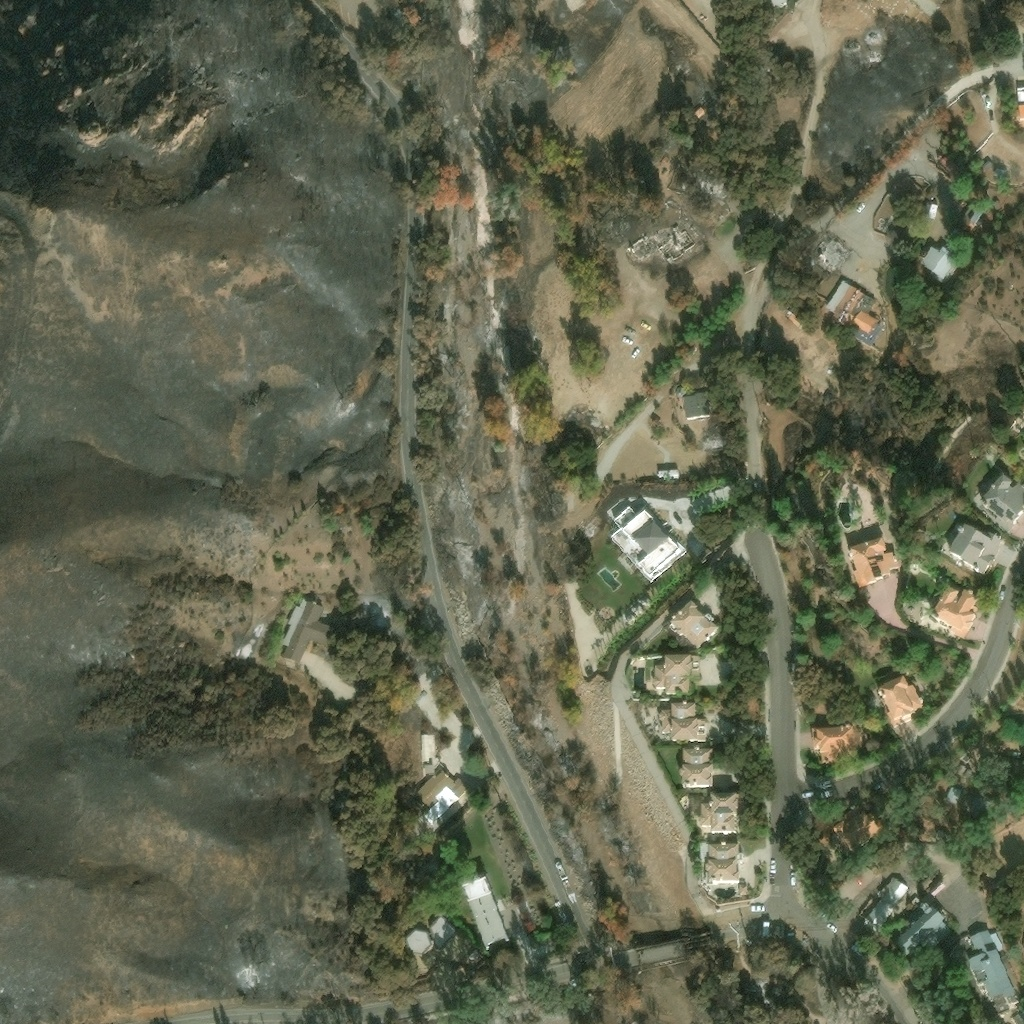0 no-damage: (612, 506, 685, 581), (960, 928, 1019, 1006), (825, 278, 883, 348), (895, 905, 956, 967), (281, 598, 335, 664), (461, 875, 509, 949), (947, 521, 1006, 577), (414, 770, 469, 829), (848, 535, 900, 588), (931, 585, 980, 641), (670, 598, 719, 650), (877, 674, 924, 728), (866, 875, 911, 930), (832, 810, 881, 855), (981, 472, 1023, 524), (659, 702, 709, 743), (812, 723, 857, 764), (655, 655, 701, 692), (701, 791, 738, 832), (678, 748, 714, 786), (708, 844, 740, 882), (817, 236, 851, 271), (922, 245, 956, 280), (430, 916, 458, 950), (684, 391, 714, 419), (893, 176, 924, 203), (407, 930, 432, 956), (971, 796, 991, 814), (656, 469, 680, 481), (946, 787, 961, 805), (930, 881, 946, 897), (1017, 87, 1023, 121), (467, 950, 481, 963), (994, 165, 1008, 178), (929, 203, 939, 219), (970, 214, 979, 225), (984, 159, 993, 169), (425, 764, 434, 773)
3 destroyed: (627, 216, 708, 268), (701, 90, 722, 111), (869, 30, 882, 42), (869, 49, 883, 59), (845, 42, 862, 50)
4 un-classified: (771, 0, 796, 9)
